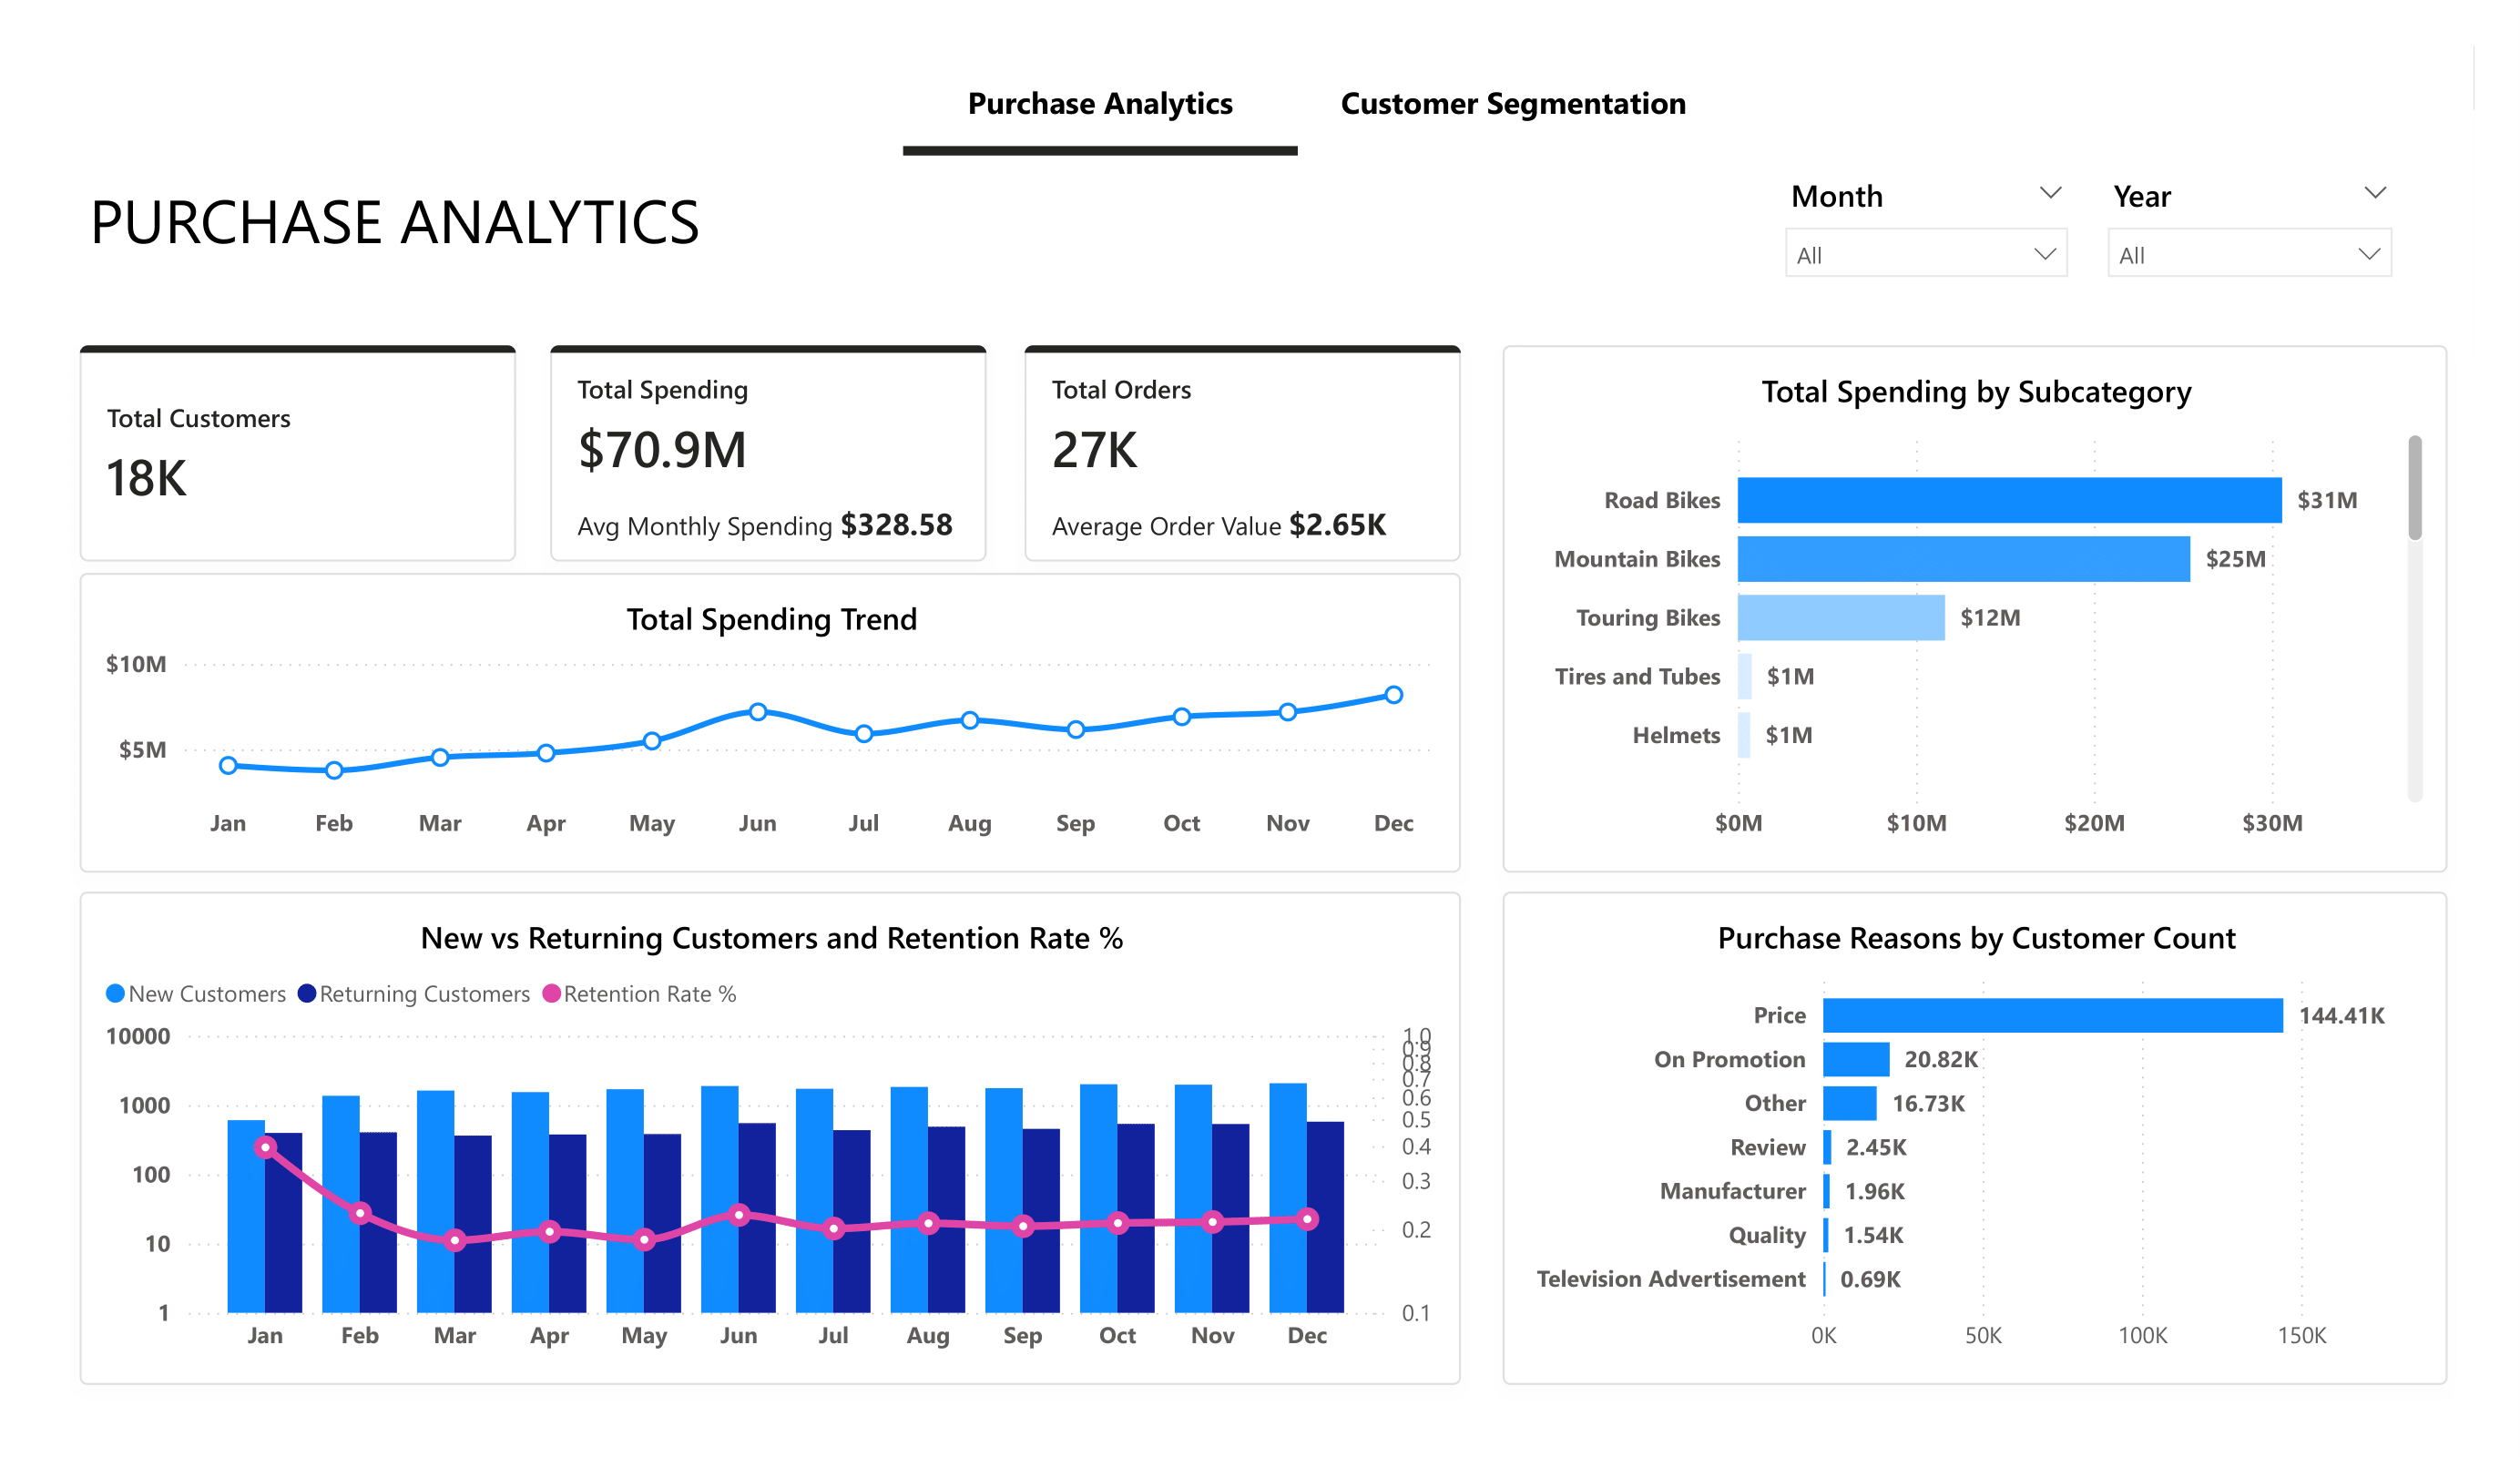

Layout of this report page (visuals, bound fields, positions):
{"tool":"powerbi","page":{"name":"Customer Overview","canvas":[1280,720],"ordinal":0},"visuals":[{"type":"cardVisual","fields":{"Data":["_Measures.Total Customers"]},"box":[18,158,230,114],"z":1000},{"type":"cardVisual","fields":{"Data":["_Measures.Total Spendings"]},"box":[266,158,230,114],"z":2000},{"type":"cardVisual","fields":{"Data":["_Measures.Total Orders"]},"box":[516,158,230,114],"z":3000},{"type":"lineChart","title":"Total Spending Trend","fields":{"Y":["_Measures.Total Spendings"],"Category":["Date_dim.Month_Abbrv"]},"box":[18,278,728,158],"z":4000},{"type":"lineClusteredColumnComboChart","title":"New vs Returning Customers and Retention Rate %","fields":{"Category":["Date_dim.Month_Abbrv"],"Y":["_Measures.New Customers","_Measures.Returning Customers"],"Y2":["_Measures.Retention Rate %"]},"box":[18,446,728,260],"z":5000},{"type":"barChart","fields":{"Category":["Product_dim.Subcategory"],"Y":["_Measures.Total Spendings"]},"box":[768,158,498,278],"z":6000},{"type":"barChart","title":"Purchase Reasons by Customer Count","fields":{"Category":["SalesReason _dim.SalesReasonName"],"Y":["CountNonNull(Sales_Fact.SalesReasonKey)"]},"box":[768,446,498,260],"z":7000},{"type":"textbox","box":[18,64,1248,78],"z":7500},{"type":"slicer","fields":{"Values":["Date_dim.CalendarYear"]},"box":[1082,68,160,74],"z":8000},{"type":"pageNavigator","box":[452,0,426,58],"z":9000}]}

Visuals, with their boxes on the page's 1280x720 design canvas (x1, y1, x2, y2). These are canvas units, not pixel positions in the 2520x1457 screenshot, which may show the page scaled, cropped or inside an application window:
cardVisual - _Measures.Total Customers: (left=18, top=158, right=248, bottom=272)
cardVisual - _Measures.Total Spendings: (left=266, top=158, right=496, bottom=272)
cardVisual - _Measures.Total Orders: (left=516, top=158, right=746, bottom=272)
"Total Spending Trend" lineChart: (left=18, top=278, right=746, bottom=436)
"New vs Returning Customers and Retention Rate %" lineClusteredColumnComboChart: (left=18, top=446, right=746, bottom=706)
barChart - Product_dim.Subcategory x _Measures.Total Spendings: (left=768, top=158, right=1266, bottom=436)
"Purchase Reasons by Customer Count" barChart: (left=768, top=446, right=1266, bottom=706)
textbox: (left=18, top=64, right=1266, bottom=142)
slicer - Date_dim.CalendarYear: (left=1082, top=68, right=1242, bottom=142)
pageNavigator: (left=452, top=0, right=878, bottom=58)
